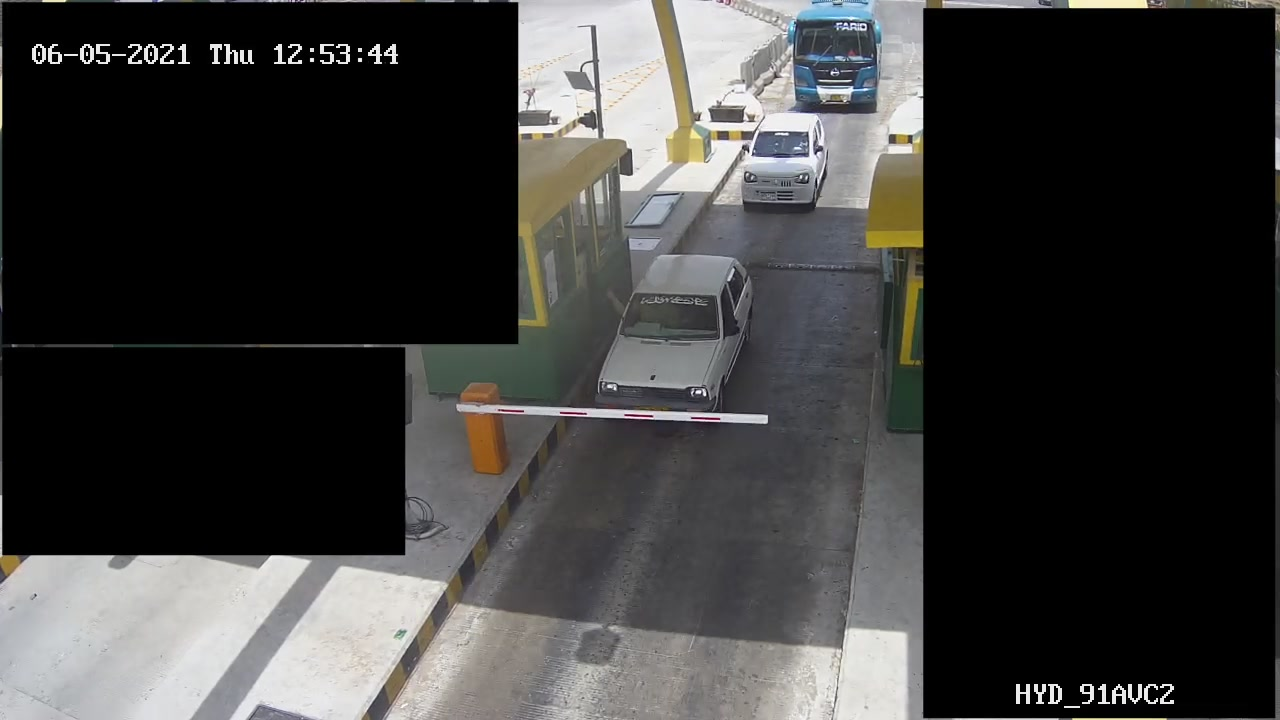F1: (590, 244, 760, 422), (741, 107, 832, 219)
